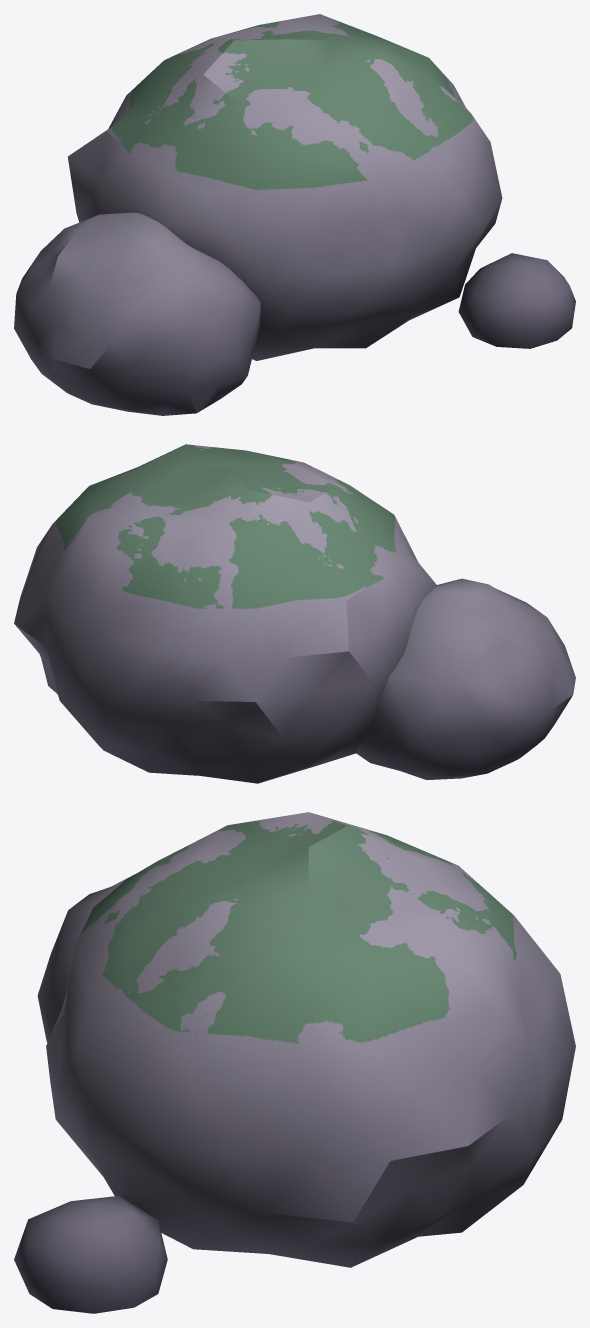
The model's file is decor_rock.fbx.
3 renders of one model, top to bottom at view 1: azimuth 30°, elevation 25°; view 2: azimuth 150°, elevation 25°; view 3: azimuth 270°, elevation 25°, orthographic. The views are drawn at different scales.
Visible parts, largest first — view 1: decor_rock; view 2: decor_rock; view 3: decor_rock.
Part boxes in pixels (x1,y1,x2,y2): decor_rock: (14, 14, 575, 415); decor_rock: (14, 444, 575, 783); decor_rock: (14, 812, 575, 1313).
Bounding box in the file's own units: 791 × 405 × 602.
Materials: 1 (1 with a texture image).
